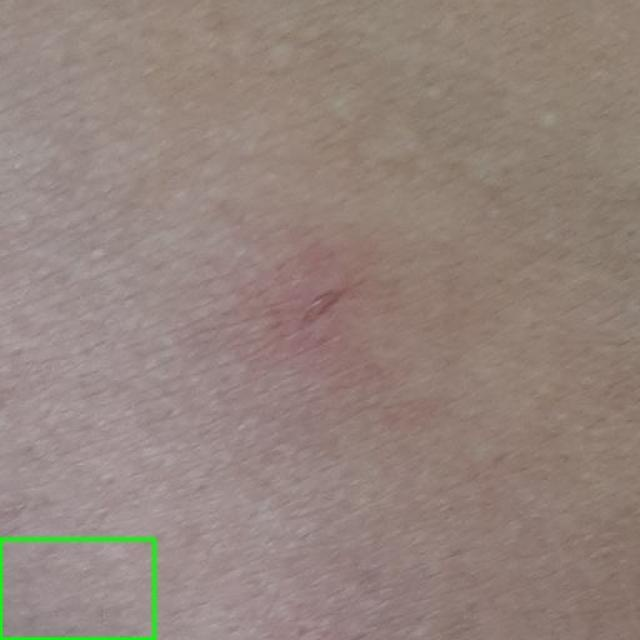Seborrheic Dermatitis: (0, 539, 154, 639)
